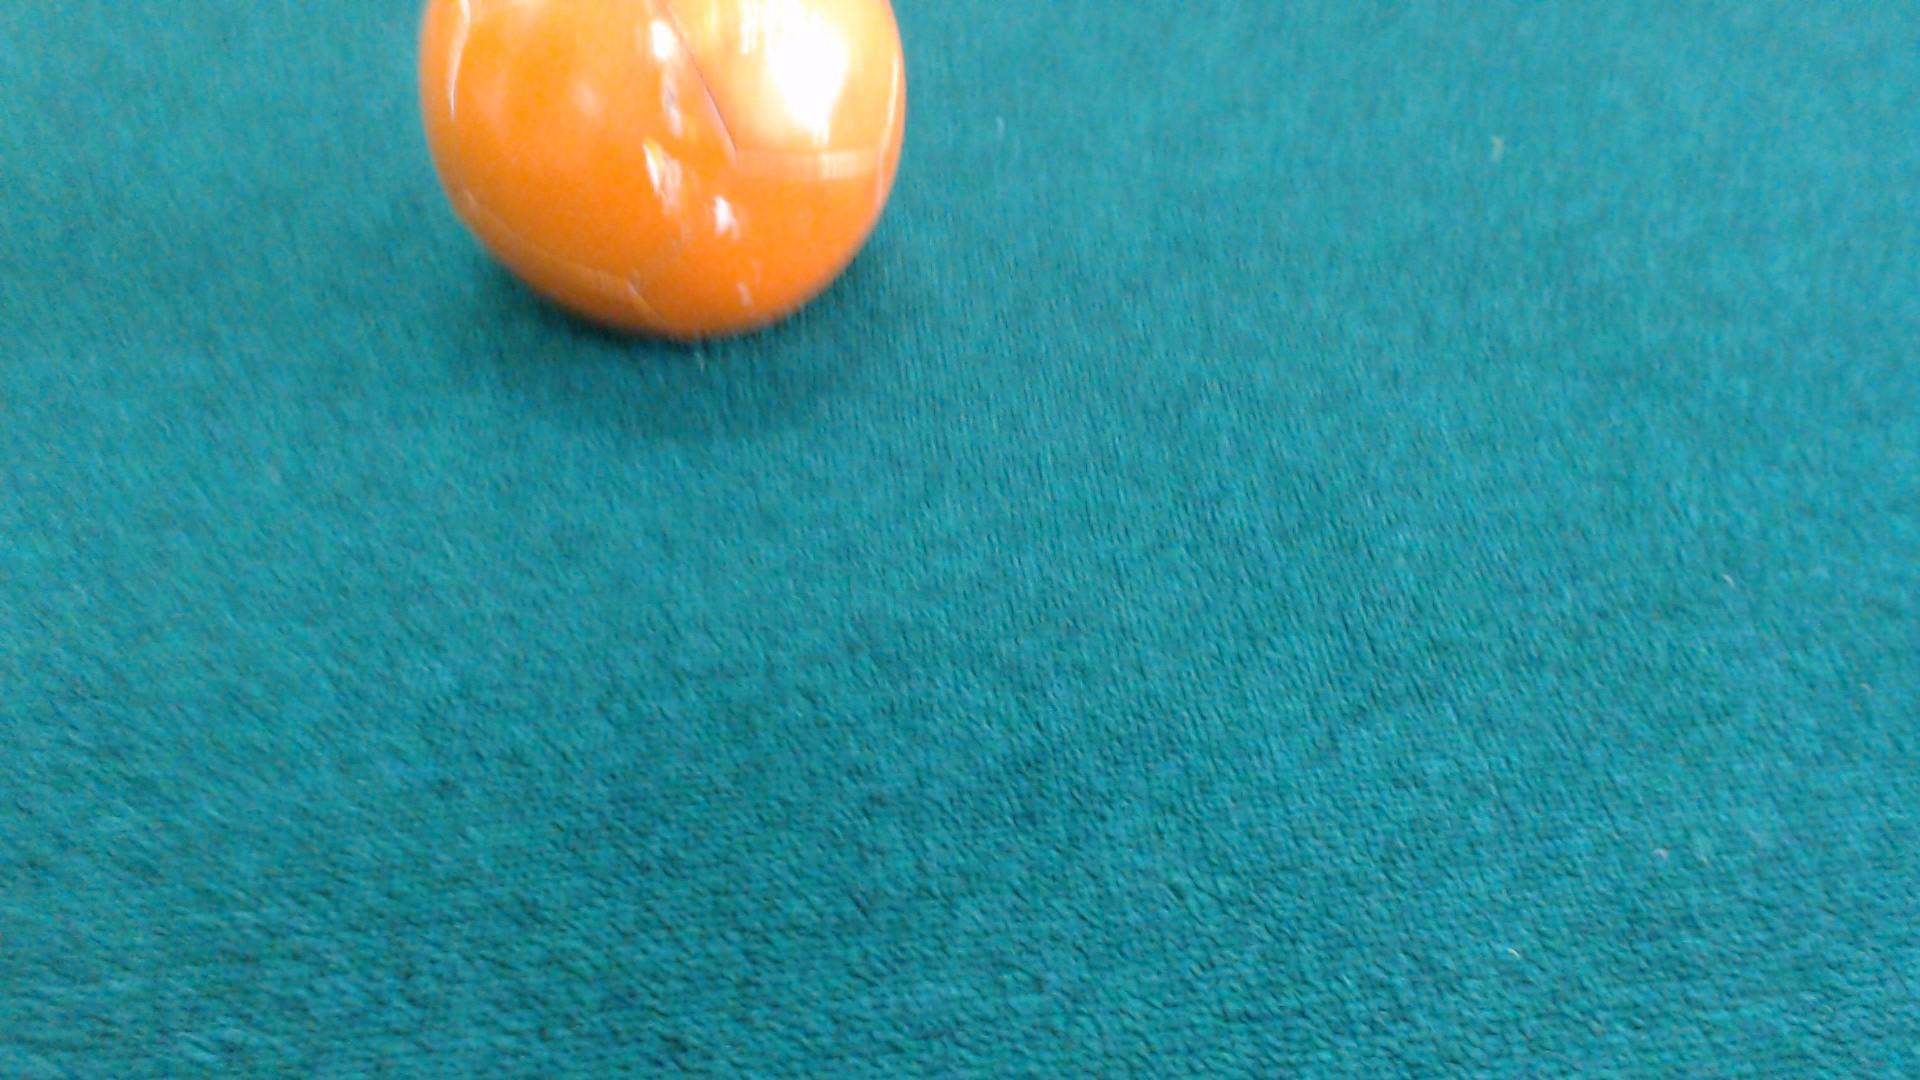bola: (394, 0, 923, 351)
